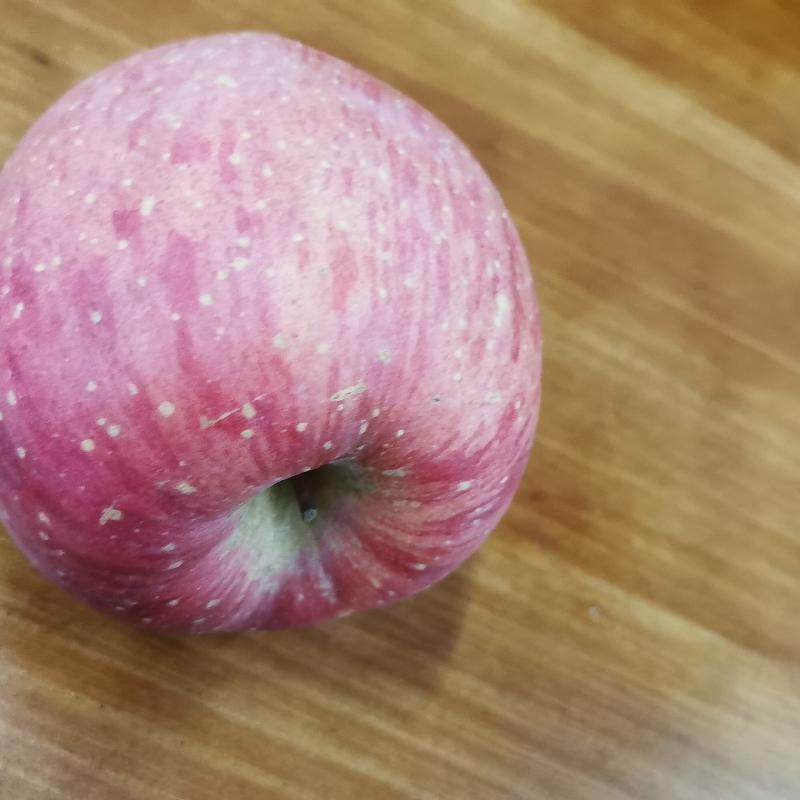apples: (4, 29, 547, 629)
